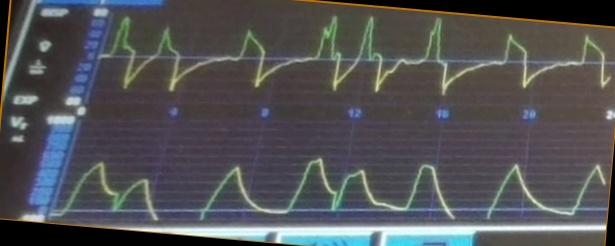Double_Triggering Flow: (112, 14, 467, 96)
Double_Triggering Volume: (72, 146, 468, 222)
